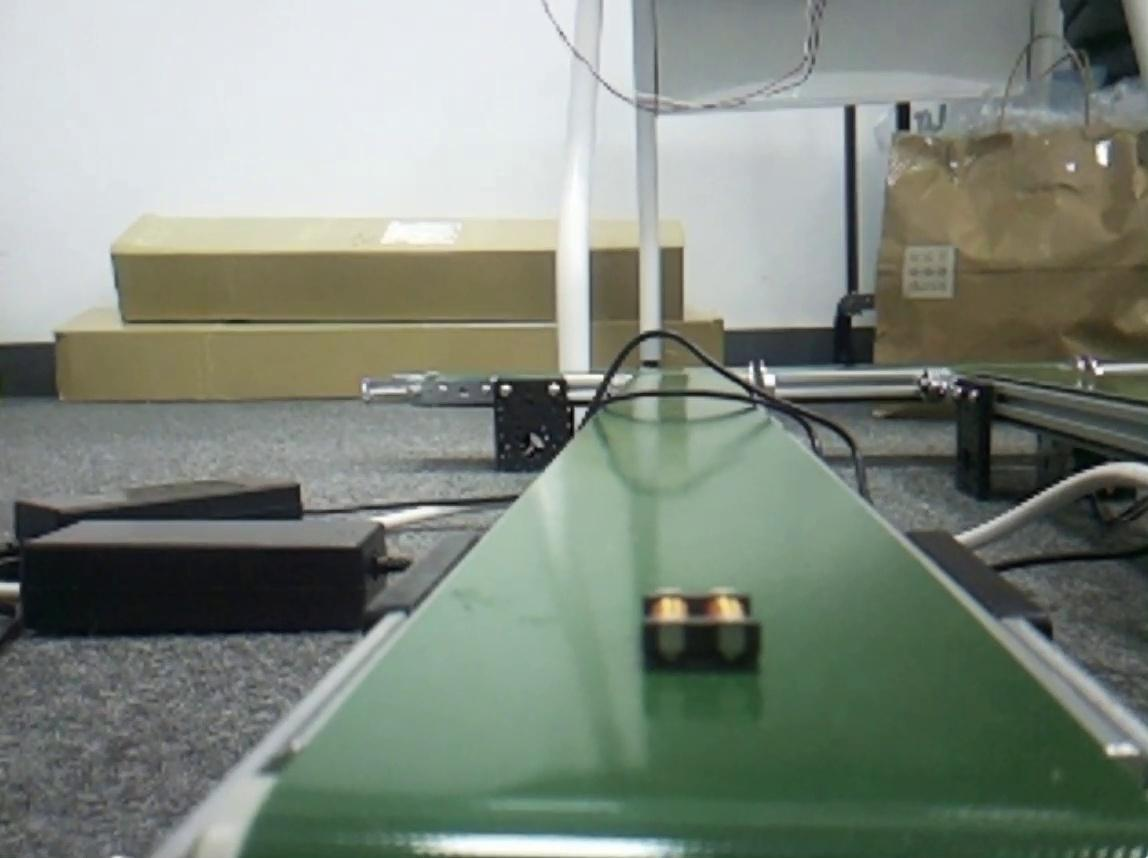inductor: (638, 588, 762, 668)
